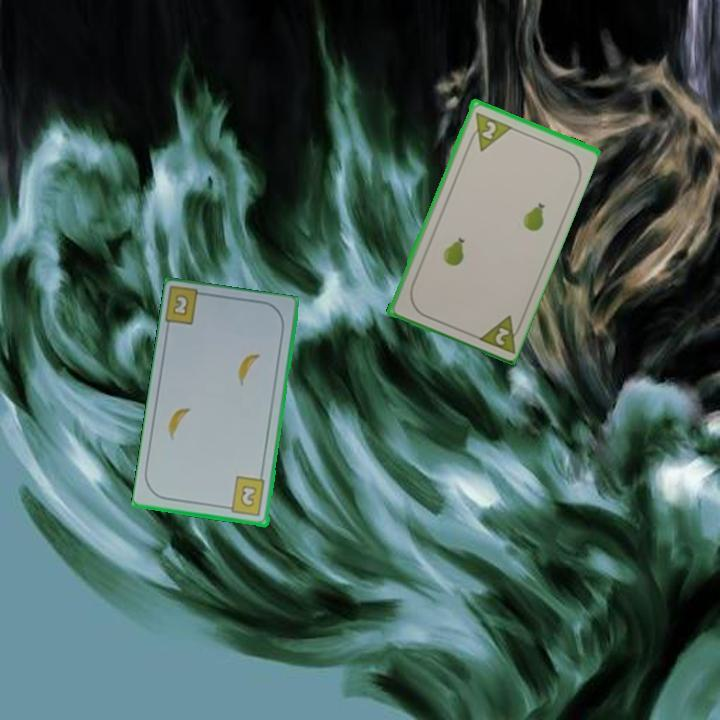2b: (163, 285, 212, 328), (222, 474, 268, 519)
2p: (472, 311, 527, 356), (464, 108, 513, 154)
